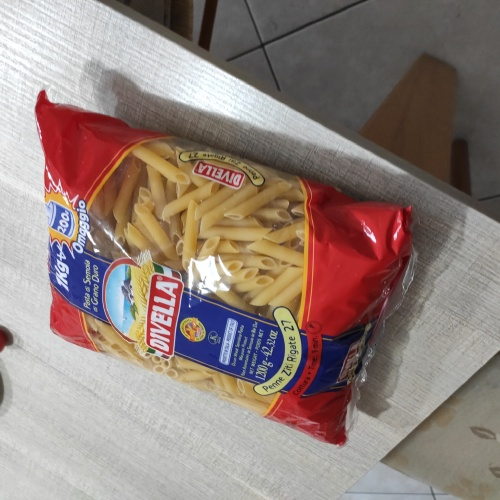pasta: (35, 100, 390, 449)
